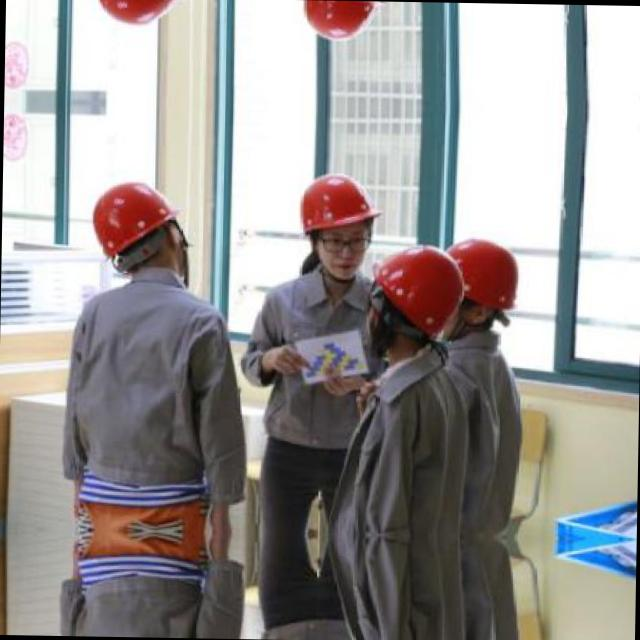helmet: (364, 234, 488, 358), (84, 168, 200, 292), (292, 160, 385, 280), (442, 234, 534, 342), (294, 0, 388, 53), (88, 0, 204, 38)
